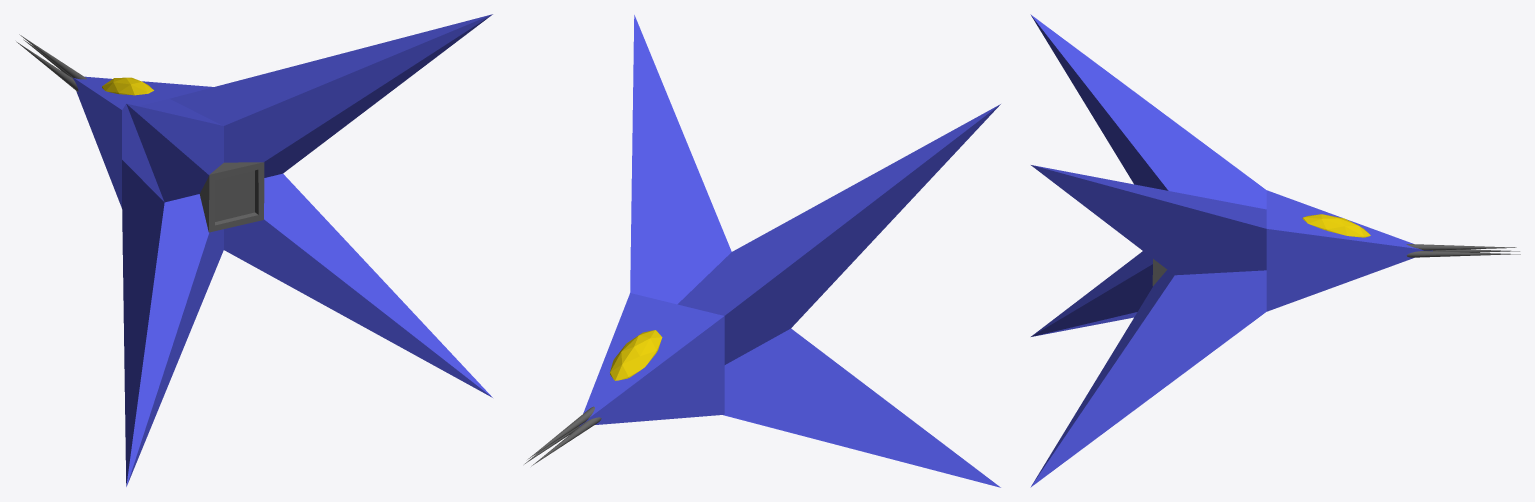
File: シューティング敵青合体.fbx
3 views of the same model, side by side, from view 1: azimuth 30°, elevation 25°; view 2: azimuth 150°, elevation 25°; view 3: azimuth 270°, elevation 25° (orthographic). The views are drawn at different scales.
Parts seen in each view (by area): view 1: Cube; view 2: Cube; view 3: Cube.
Boxes of the visible parts, left/top/right/bottom form: Cube: left=16, top=14, right=492, bottom=486; Cube: left=524, top=15, right=1000, bottom=487; Cube: left=1030, top=14, right=1520, bottom=487.
Size of the model in its own units: 581 by 581 by 800.
